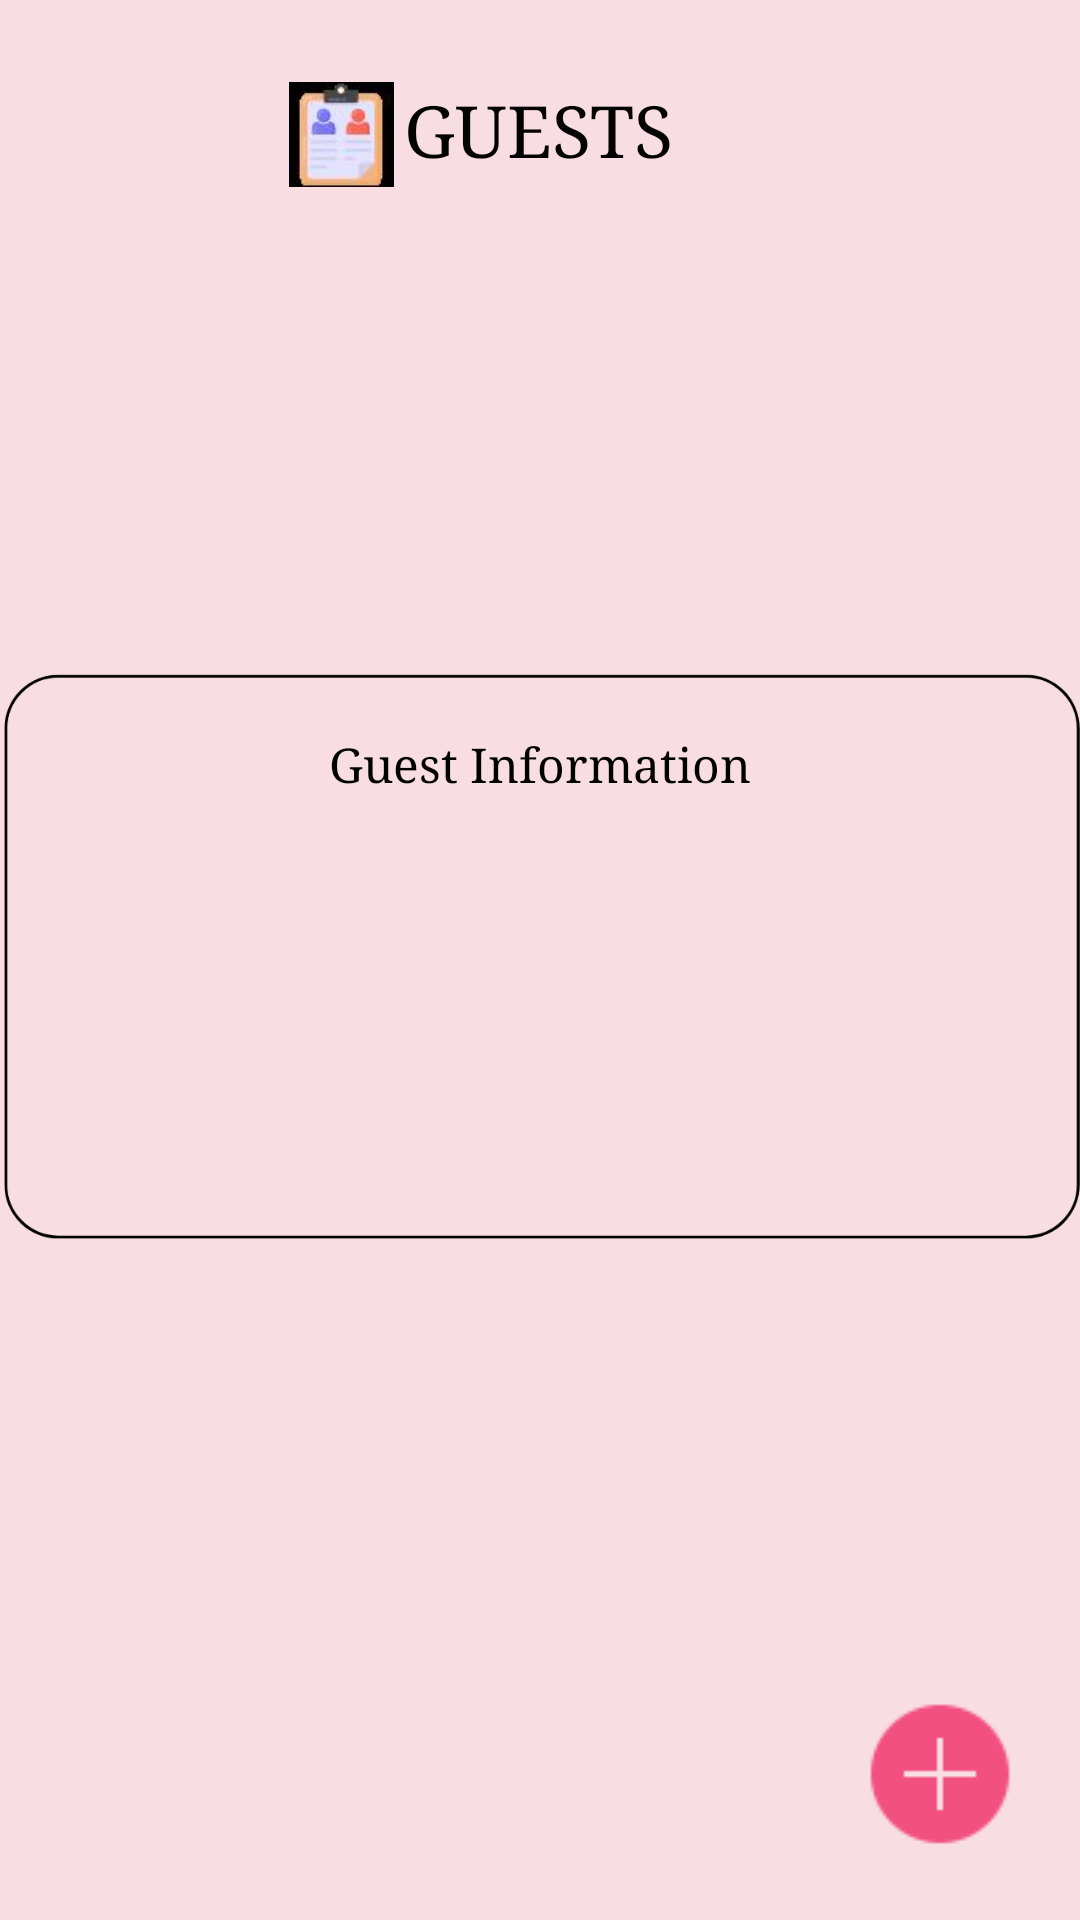

Named icons in this screenshot (1080x1920) and their bounding boxes, bbox=(x1, y1, x2, y2):
plus: bbox=(870, 1704, 1010, 1844)
